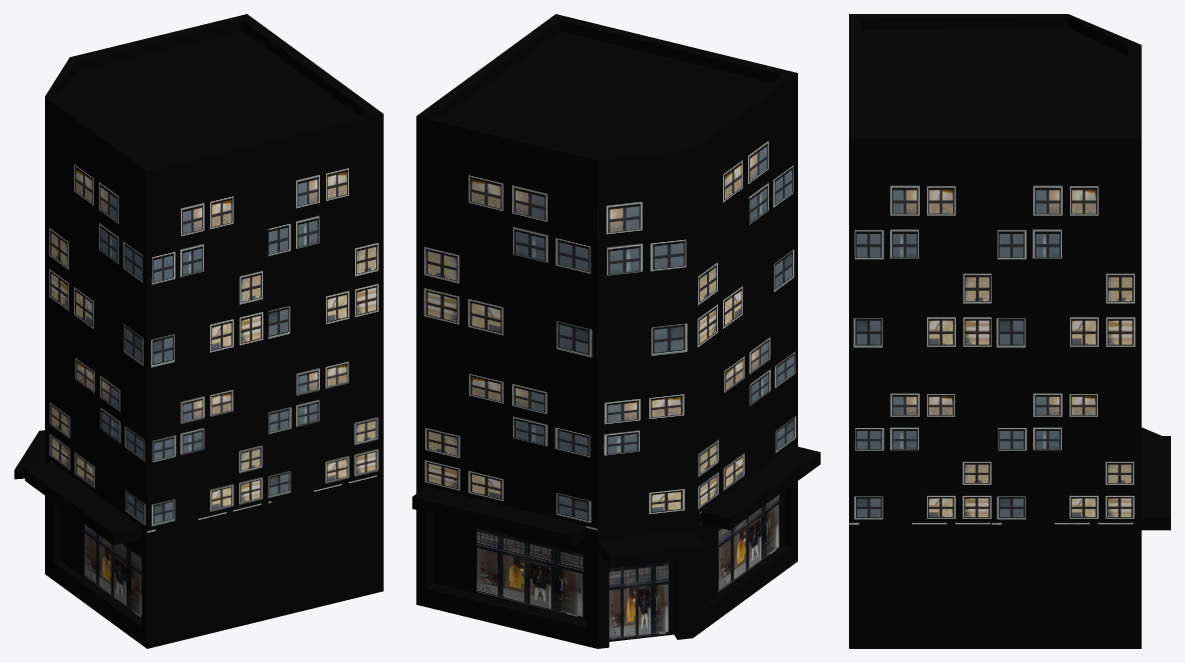
File: building7.FBX
The picture shows the model from 3 angles, left to right: view 1: azimuth 30°, elevation 25°; view 2: azimuth 150°, elevation 25°; view 3: azimuth 270°, elevation 25°; orthographic projection. The views are drawn at different scales.
Parts seen in each view (by area): view 1: Box001; view 2: Box001; view 3: Box001.
Part boxes in pixels (x1,y1,x2,y2): Box001: (14, 14, 383, 648); Box001: (412, 14, 820, 648); Box001: (849, 14, 1170, 648).
Size of the model in its own units: 62.65 by 108 by 61.63.
